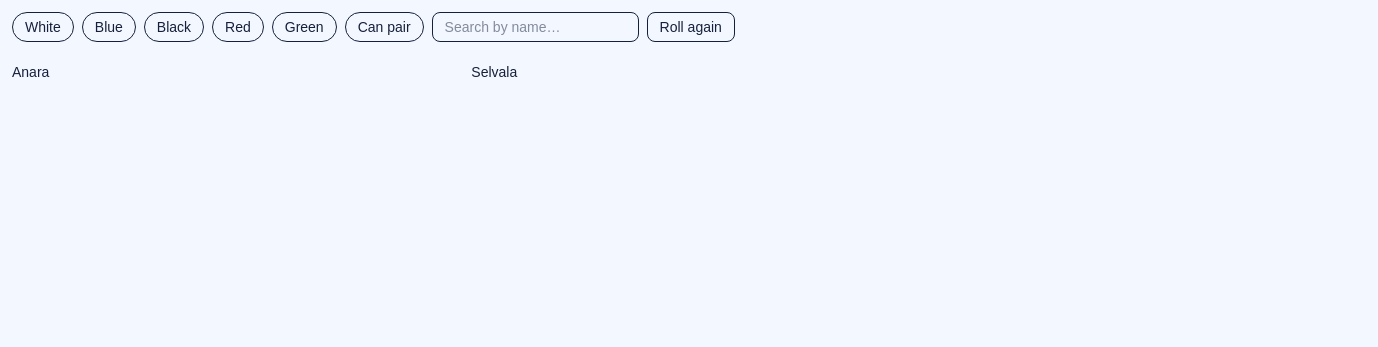
CommanderBrowser › opens the detail panel for a chosen card
The width and height of the screenshot is (1378, 347).
Check: the text "Anara" is shown, box [12,64,49,80]
Click the button "Anara".
click(31, 72)  # box [12,58,459,82]
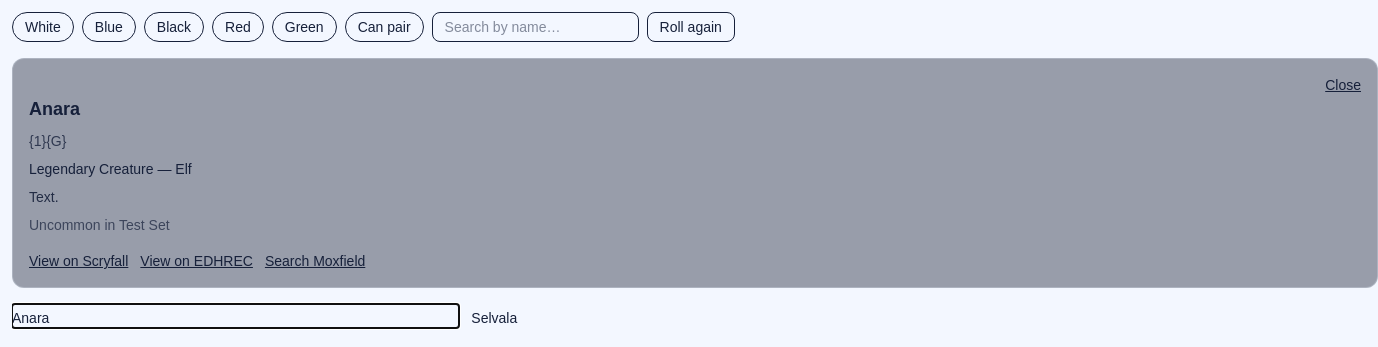
Check: the element "Anara" is shown
